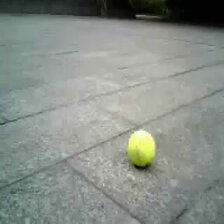tennis: (128, 130, 155, 164)
